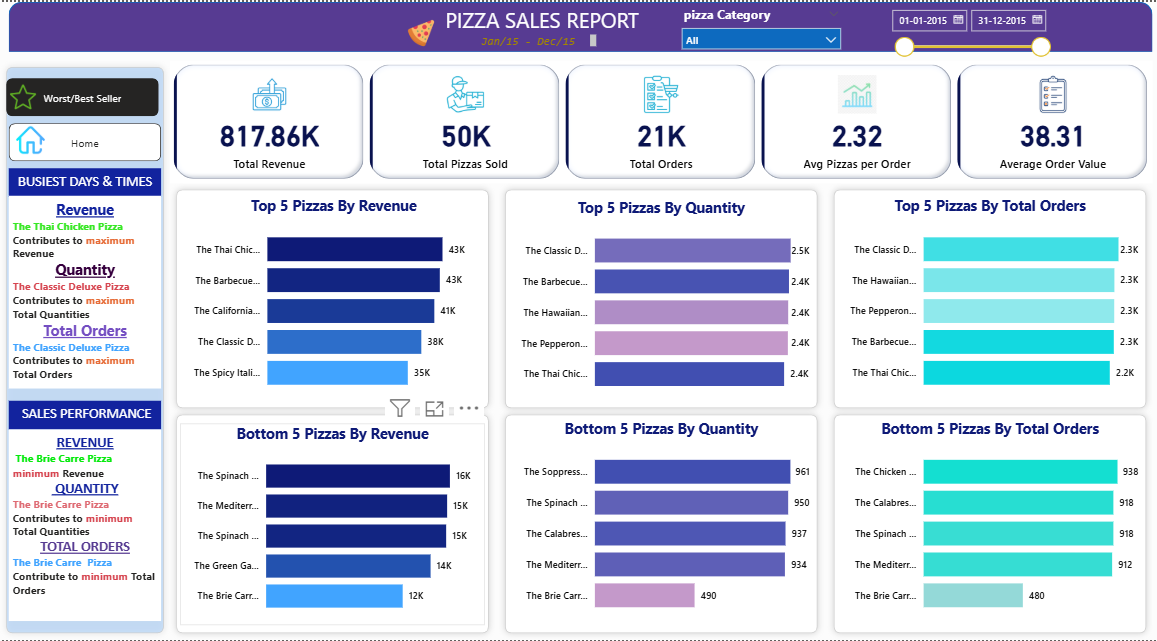

What the dashboard file says about the page in this screenshot:
{"tool":"powerbi","page":{"name":"Worst/Best Seller","canvas":[1500,820],"ordinal":1},"visuals":[{"type":"cardVisual","fields":{"Data":["pizza_sales.Total Revenue","pizza_sales.Total Pizzas Sold","pizza_sales.Total Orders","pizza_sales.Avg Pizzas per Order","pizza_sales.Average Order Value"]},"box":[218.7,75.6,1263.9,157.6],"z":0},{"type":"shape","box":[11.3,0,1471.4,64.3],"z":1000},{"type":"textbox","box":[567.6,0,283,51.5],"z":2000},{"type":"textbox","box":[614.3,37,157.6,25.7],"z":3000},{"type":"image","box":[495,18.3,93.3,45],"z":4000},{"type":"shape","box":[0,75.6,218.7,744.5],"z":5000},{"type":"shape","box":[1064.5,522.6,418.1,297.5],"z":6000},{"type":"shape","box":[641.6,233.2,418.1,297.5],"z":7000},{"type":"shape","box":[218.7,522.6,418.1,297.5],"z":8000},{"type":"textbox","box":[11.3,213.9,196.2,37],"z":9000},{"type":"textbox","box":[11.3,249.3,196.2,247.6],"z":10000},{"type":"textbox","box":[11.3,513,196.2,37],"z":11000},{"type":"textbox","box":[11.3,550,196.2,246],"z":12000},{"type":"slicer","fields":{"Values":["pizza_sales.pizza_category"]},"box":[866.7,0,225.1,64.3],"z":13000},{"type":"slicer","fields":{"Values":["pizza_sales.order_date"]},"box":[1135.3,0,225.1,86.8],"z":14000},{"type":"shape","box":[218.7,233.2,418.1,297.5],"z":15000},{"type":"shape","box":[641.6,522.6,418.1,297.5],"z":16000},{"type":"shape","box":[1064.5,233.2,418.1,297.5],"z":17000},{"type":"barChart","title":"Top 5 Pizzas By Revenue","fields":{"Category":["pizza_sales.pizza_name"],"Y":["pizza_sales.Total Revenue"]},"box":[233.2,249.3,392.4,265.3],"z":18000},{"type":"barChart","title":"Bottom 5 Pizzas By Revenue","fields":{"Category":["pizza_sales.pizza_name"],"Y":["pizza_sales.Total Revenue"]},"box":[231.6,541.9,392.4,258.9],"z":19000},{"type":"barChart","title":"Top 5 Pizzas By Quantity","fields":{"Category":["pizza_sales.pizza_name"],"Y":["pizza_sales.Total Pizzas Sold"]},"box":[654.5,250.9,392.4,265.3],"z":20000},{"type":"barChart","title":"Bottom 5 Pizzas By Quantity","fields":{"Category":["pizza_sales.pizza_name"],"Y":["pizza_sales.Total Pizzas Sold"]},"box":[654.5,535.5,392.4,265.3],"z":21000},{"type":"barChart","title":"Top 5 Pizzas By Total Orders","fields":{"Category":["pizza_sales.pizza_name"],"Y":["pizza_sales.Total Orders"]},"box":[1077.4,249.3,392.4,265.3],"z":22000},{"type":"barChart","title":"Bottom 5 Pizzas By Total Orders","fields":{"Category":["pizza_sales.pizza_name"],"Y":["pizza_sales.Total Orders"]},"box":[1077.4,535.5,392.4,265.3],"z":23000},{"type":"pageNavigator","box":[11.3,156,196.2,49.9],"z":24000},{"type":"pageNavigator","box":[8,98.1,196.2,49.9],"z":25000},{"type":"image","box":[11.3,154.4,56.3,46.6],"z":26000},{"type":"image","box":[8,98.1,43.4,48.2],"z":27000}]}

Visuals, with their boxes in screenshot pixels (x1, y1, x2, y2), scaled from the page's 1500x820 canvas onto the 1157x641 screenshot:
cardVisual - pizza_sales.Total Revenue x pizza_sales.Total Pizzas Sold: 169:59:1144:182
shape: 9:0:1144:50
textbox: 438:0:656:40
textbox: 474:29:595:49
image: 382:14:454:49
shape: 0:59:169:640
shape: 821:409:1144:640
shape: 495:182:817:415
shape: 169:409:491:640
textbox: 9:167:160:196
textbox: 9:195:160:388
textbox: 9:401:160:430
textbox: 9:430:160:622
slicer - pizza_sales.pizza_category: 669:0:842:50
slicer - pizza_sales.order_date: 876:0:1049:68
shape: 169:182:491:415
shape: 495:409:817:640
shape: 821:182:1144:415
"Top 5 Pizzas By Revenue" barChart: 180:195:483:402
"Bottom 5 Pizzas By Revenue" barChart: 179:424:481:626
"Top 5 Pizzas By Quantity" barChart: 505:196:808:404
"Bottom 5 Pizzas By Quantity" barChart: 505:419:808:626
"Top 5 Pizzas By Total Orders" barChart: 831:195:1134:402
"Bottom 5 Pizzas By Total Orders" barChart: 831:419:1134:626
pageNavigator: 9:122:160:161
pageNavigator: 6:77:158:116
image: 9:121:52:157
image: 6:77:40:114
